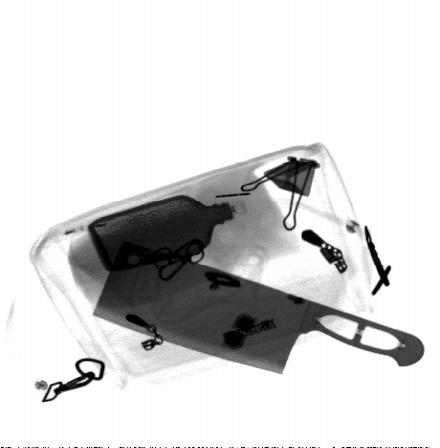Knife: (92, 237, 427, 376)
